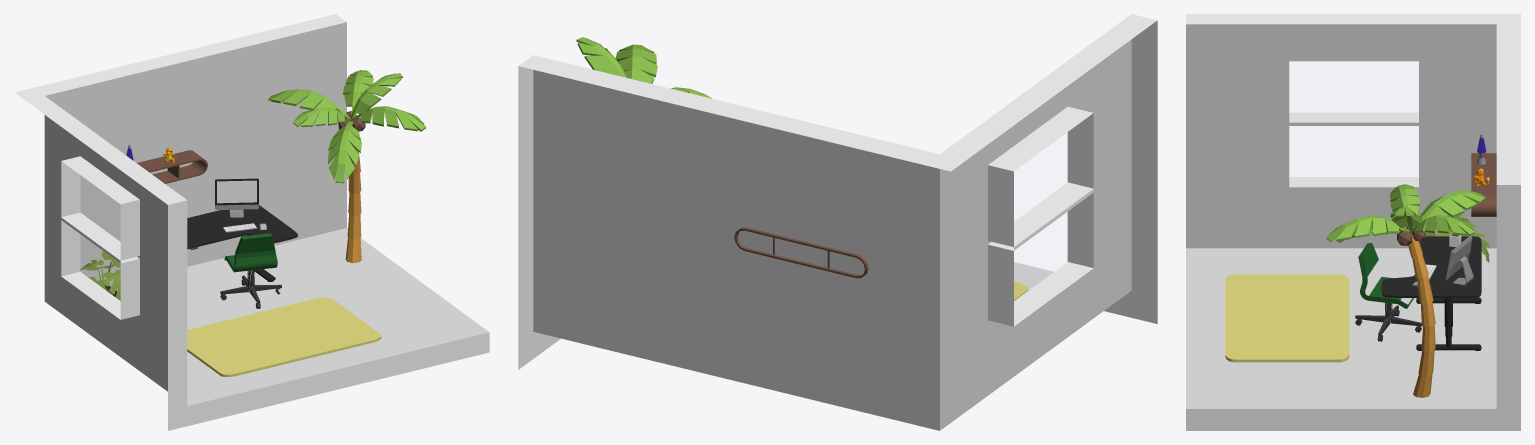
3 renders of one model, left to right at view 1: azimuth 30°, elevation 25°; view 2: azimuth 150°, elevation 25°; view 3: azimuth 270°, elevation 25°, orthographic. The views are drawn at different scales.
Visible parts, largest first — view 1: WawaRug, Desk; view 2: WawaRug, Desk; view 3: WawaRug, Desk.
Part boxes in pixels (x1,y1,x2,y2): WawaRug: (14,14,489,430); Desk: (80,70,425,308); WawaRug: (518,14,1157,430); Desk: (576,37,868,278); WawaRug: (1186,14,1520,430); Desk: (1326,134,1496,397).
Size of the model in its own units: 5.92 by 3.84 by 4.74.
Materials: 5 (5 with a texture image).
